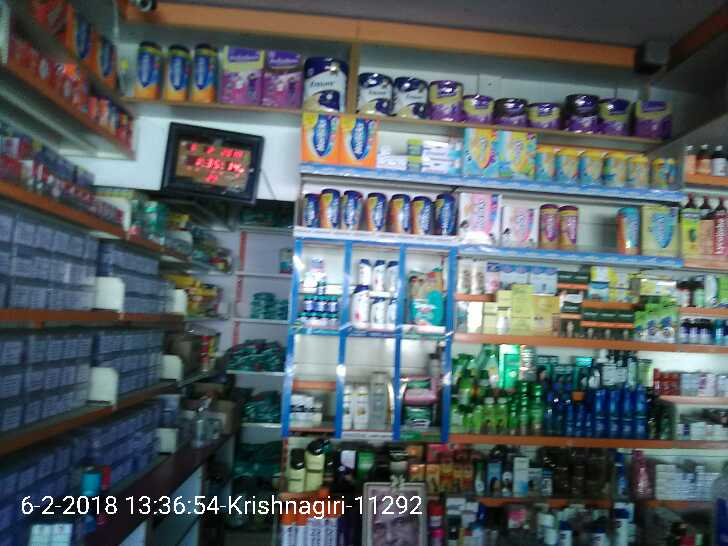vicks: (297, 294, 344, 328)
